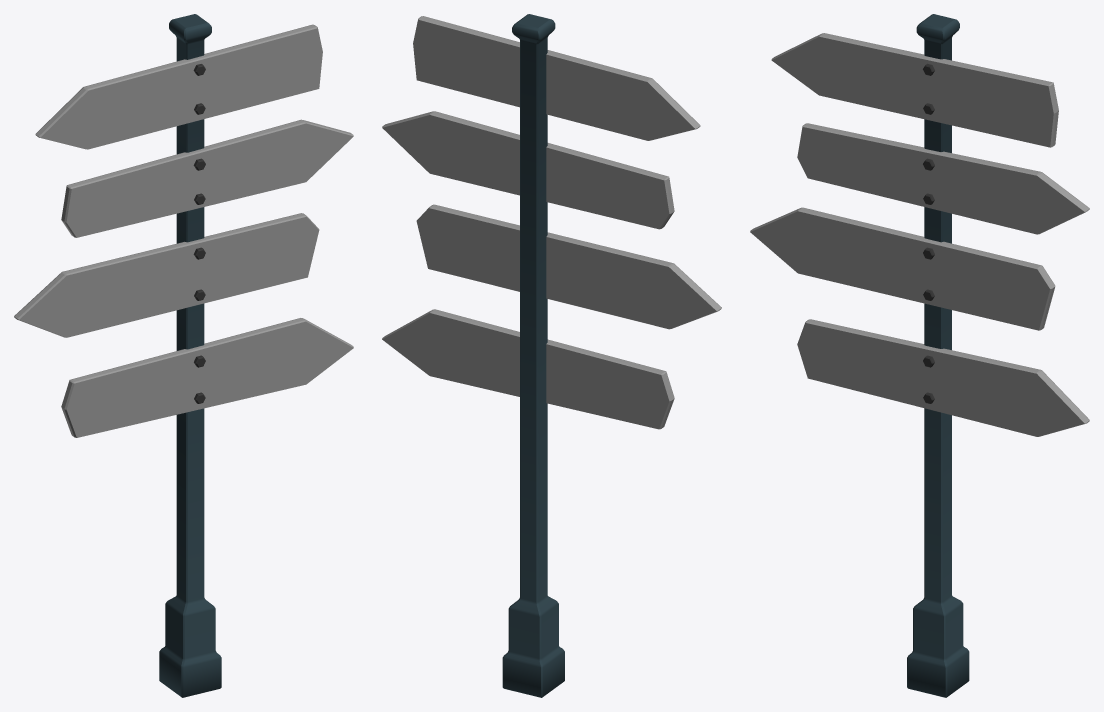
File: props_78.glb
3 views of the same model, side by side, from view 1: azimuth 30°, elevation 25°; view 2: azimuth 150°, elevation 25°; view 3: azimuth 330°, elevation 25° (orthographic).
Parts seen in each view (by area): view 1: props_78; view 2: props_78; view 3: props_78.
Part boxes in pixels (box(x1,y1,x2,y2)): props_78: box(14, 14, 353, 697); props_78: box(382, 14, 721, 697); props_78: box(750, 14, 1089, 697).
Size of the model in its own units: 1.48 by 2.79 by 0.1777.
Materials: 1 (1 with a texture image).
